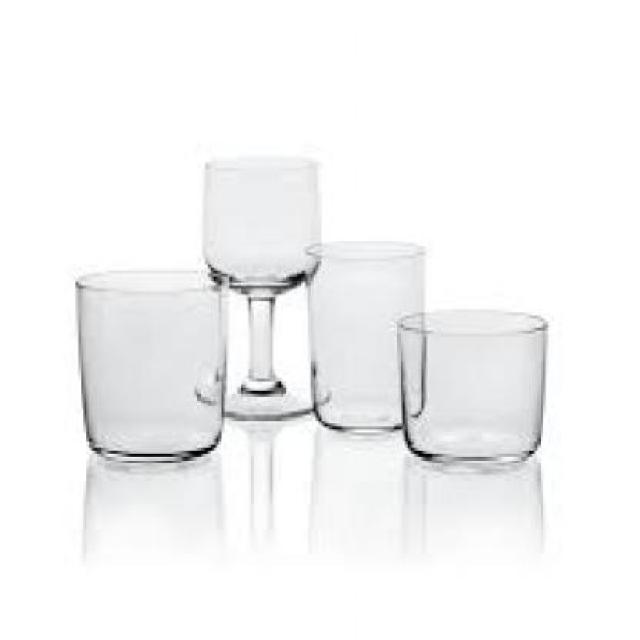kaca: (192, 157, 328, 418), (72, 264, 225, 453), (394, 306, 546, 466), (303, 240, 425, 435)
